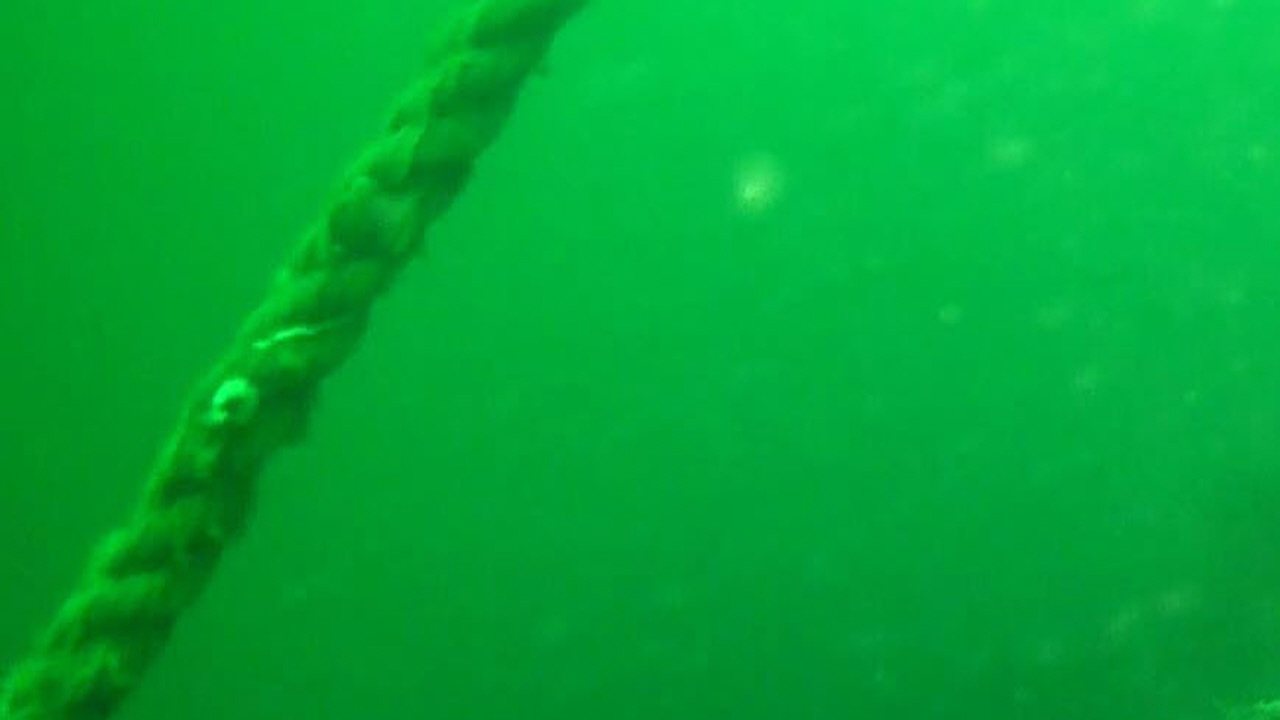rope: (0, 0, 586, 720)
